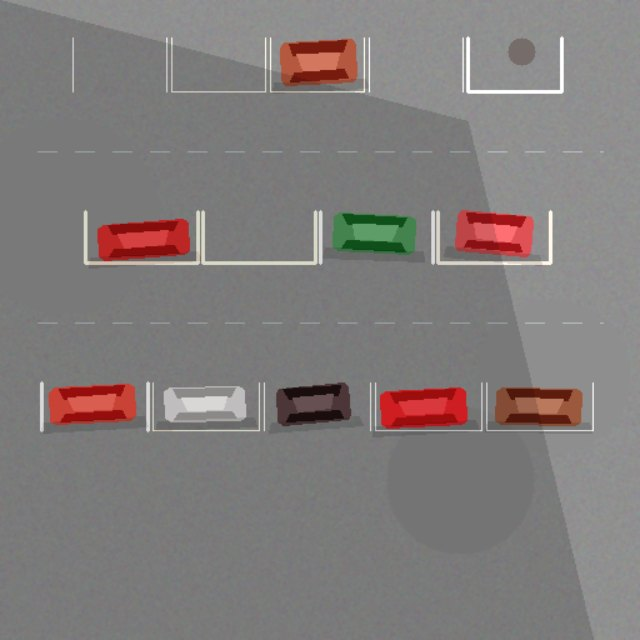space-empty: (203, 211, 315, 262), (72, 38, 166, 91), (171, 38, 265, 91), (369, 38, 462, 91), (468, 38, 561, 91)
space-occupied: (320, 211, 433, 262), (437, 211, 550, 262), (85, 211, 197, 262), (41, 383, 148, 430), (152, 383, 259, 430), (270, 38, 364, 91), (264, 383, 370, 430), (375, 383, 481, 430), (486, 383, 592, 430)
